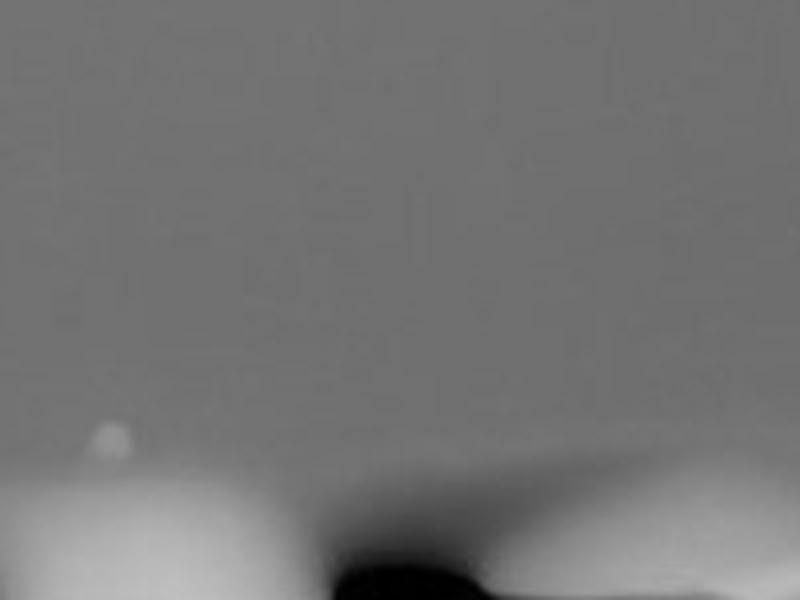defect: (327, 550, 491, 600)
